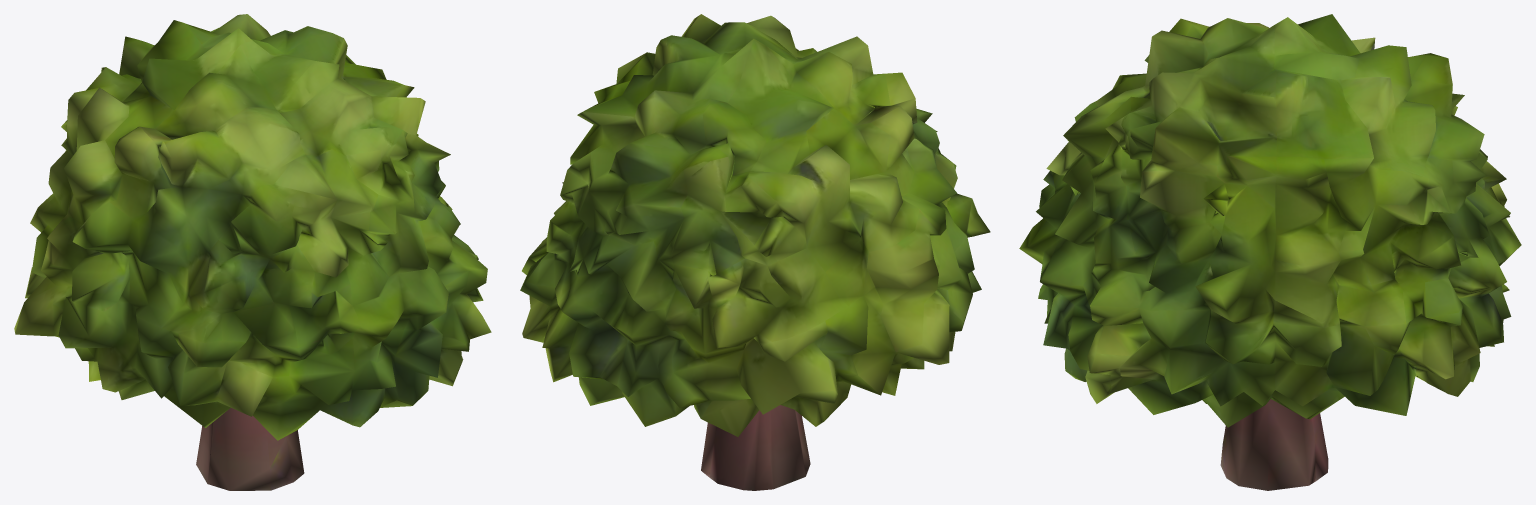
Rendered from bush.glb.
The picture shows the model from 3 angles, left to right: view 1: azimuth 30°, elevation 25°; view 2: azimuth 150°, elevation 25°; view 3: azimuth 270°, elevation 25°; orthographic projection. The views are drawn at different scales.
Visible parts, largest first — view 1: tripo_node_b1252ee7-b4d2-4441-b390-1f1e90ba61c4; view 2: tripo_node_b1252ee7-b4d2-4441-b390-1f1e90ba61c4; view 3: tripo_node_b1252ee7-b4d2-4441-b390-1f1e90ba61c4.
Part boxes in pixels (x1=…): tripo_node_b1252ee7-b4d2-4441-b390-1f1e90ba61c4: x1=14, y1=14, x2=491, y2=490; tripo_node_b1252ee7-b4d2-4441-b390-1f1e90ba61c4: x1=520, y1=14, x2=990, y2=490; tripo_node_b1252ee7-b4d2-4441-b390-1f1e90ba61c4: x1=1019, y1=14, x2=1521, y2=490.
Size of the model in its own units: 0.8797 by 0.9222 by 0.9347.
1 material, 1 textured.
